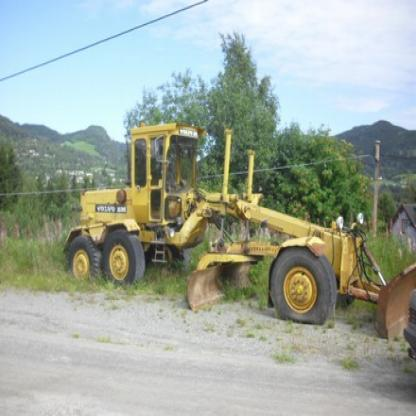bull_dozer/loader/grader: (60, 117, 360, 325)
